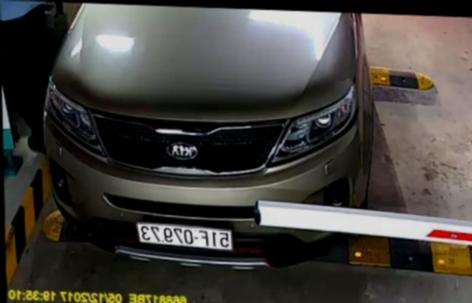License_Plate: (129, 217, 237, 254)
